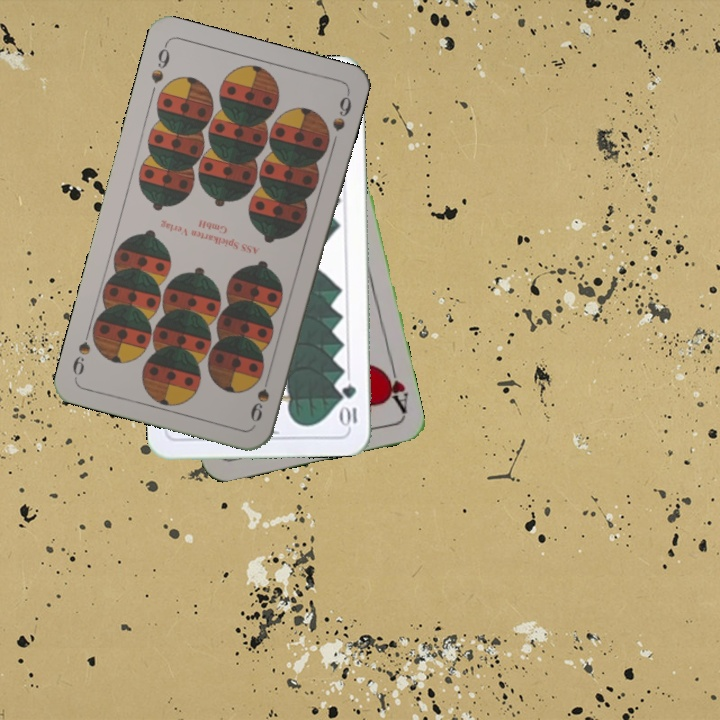G10: (338, 379, 360, 429)
HA: (378, 358, 411, 416)
S9: (246, 368, 273, 425), (147, 40, 172, 86)
